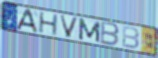A: (16, 9, 39, 34)
B: (99, 20, 121, 48), (121, 25, 141, 50)
H: (38, 11, 59, 37)
M: (77, 17, 101, 44)
V: (58, 14, 80, 39)
